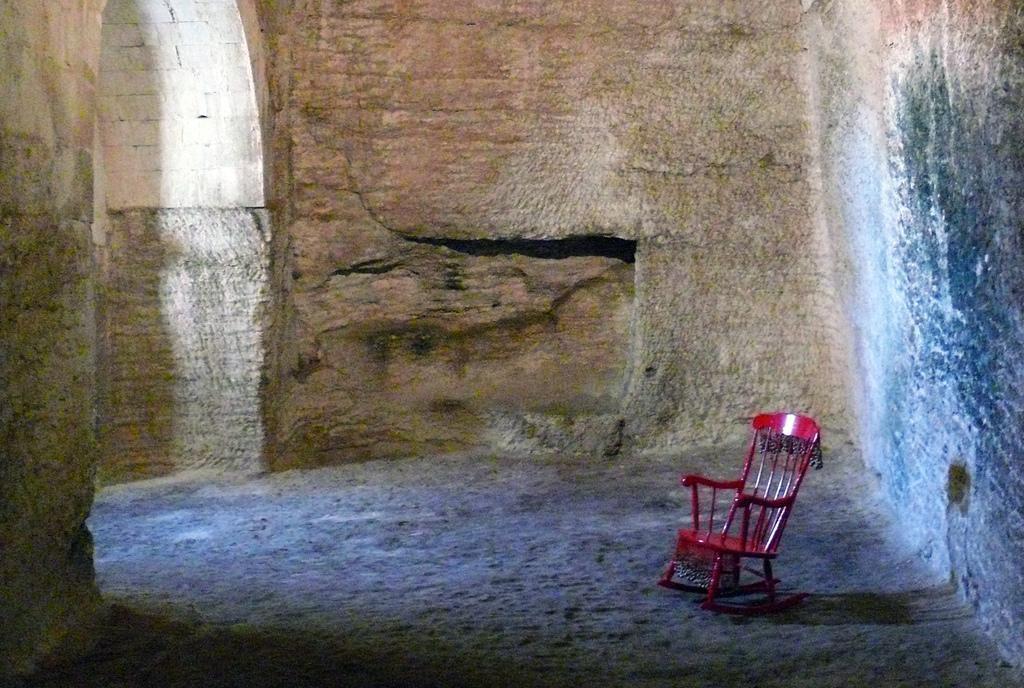Chair: (663, 416, 822, 625)
